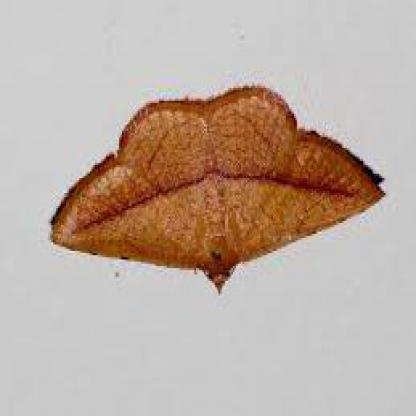Leaf Webber: (54, 82, 387, 300)
